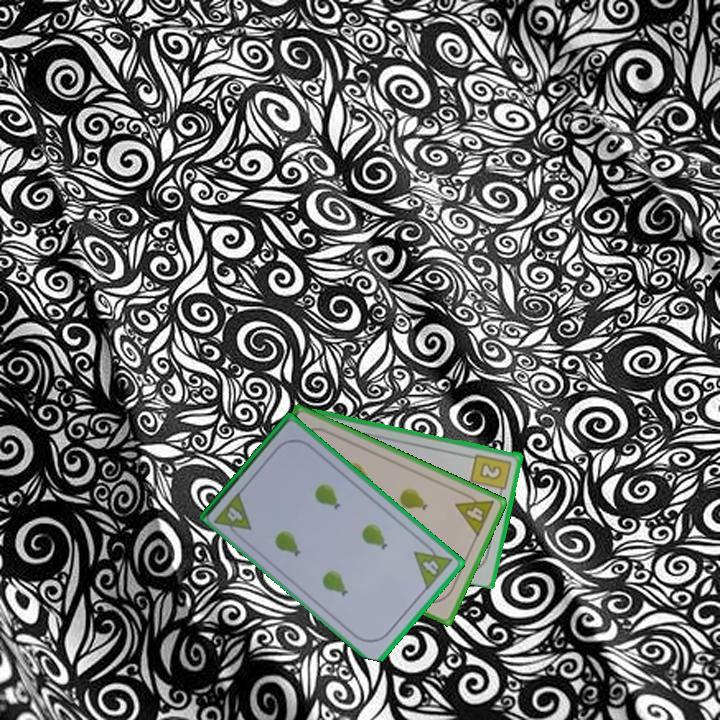2b: (467, 450, 514, 498)
4p: (411, 538, 455, 592), (452, 487, 497, 539), (212, 488, 254, 542)
